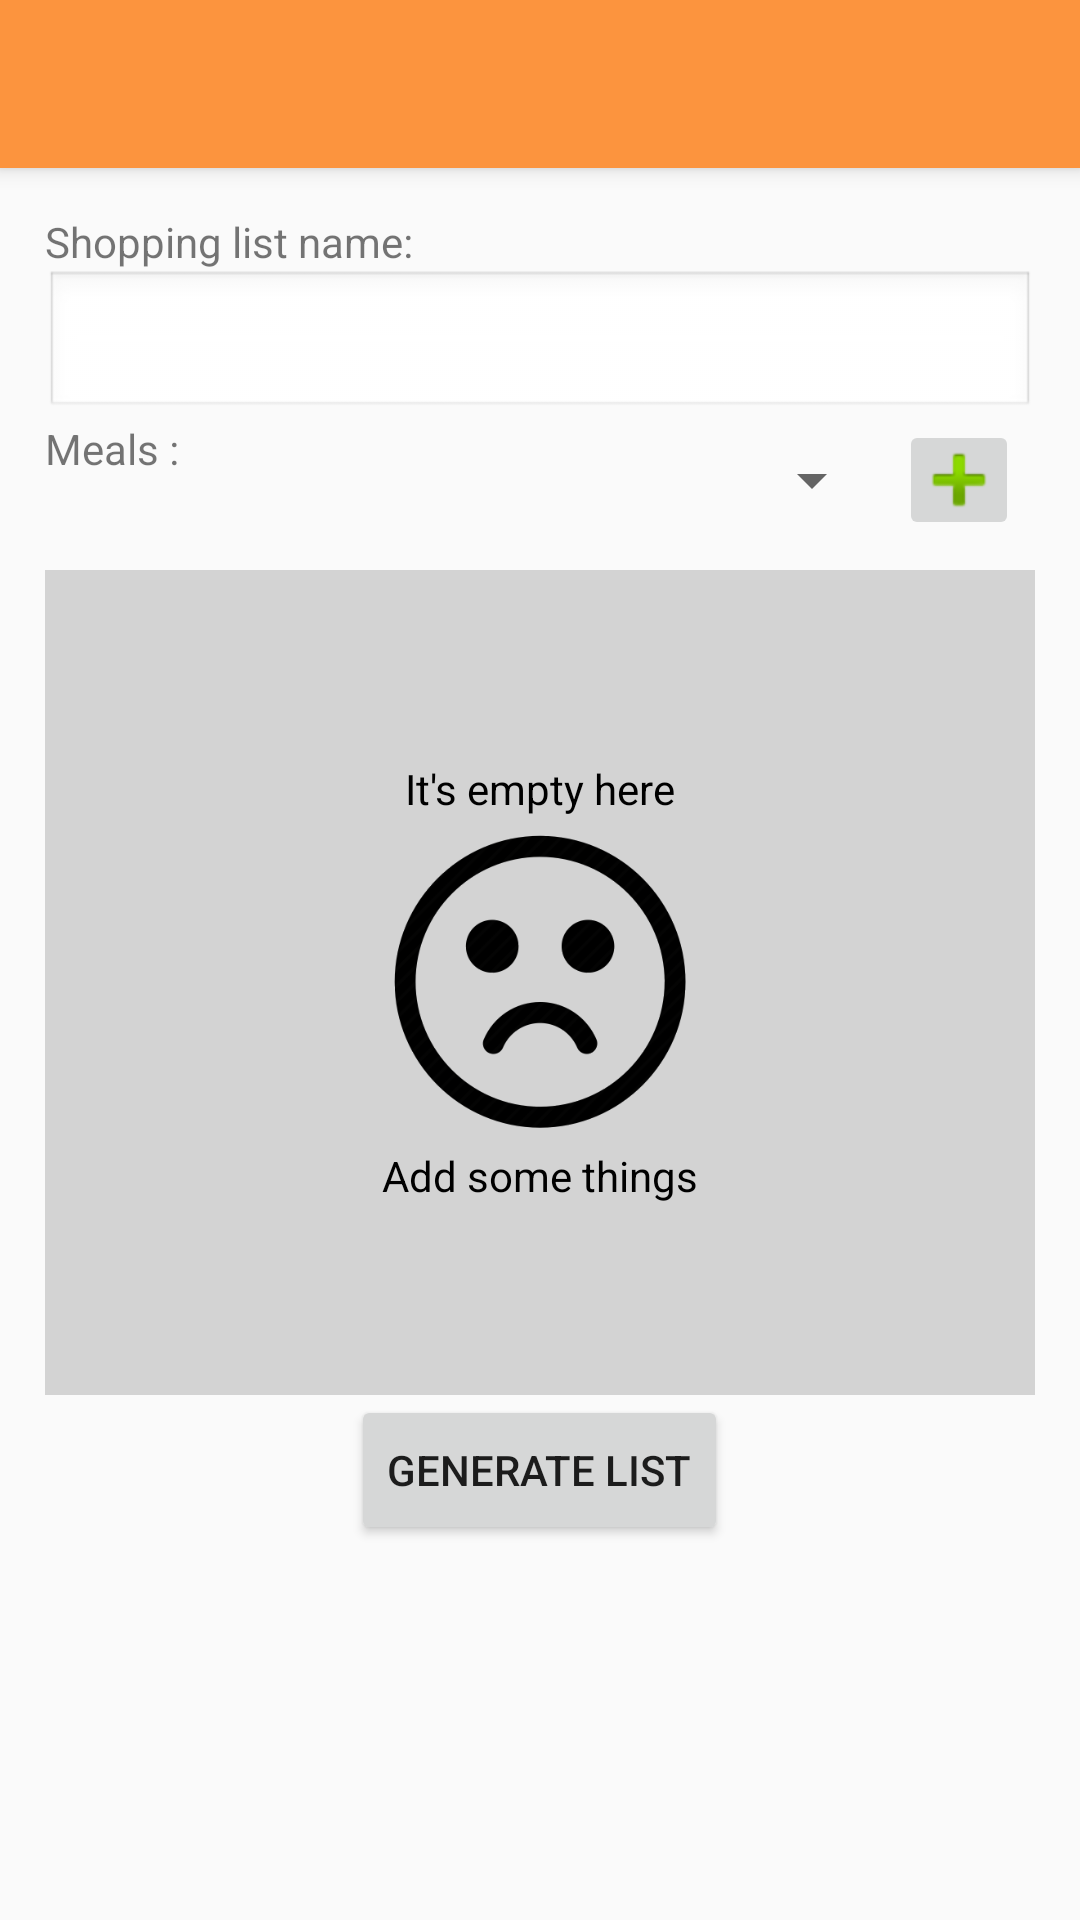

Locate icon controls on the screen. Image size 1080*1920, boxes as bbox(x1, y1, x2, y2).
add: bbox(911, 438, 1007, 522)
sad face: bbox(394, 835, 686, 1128)
